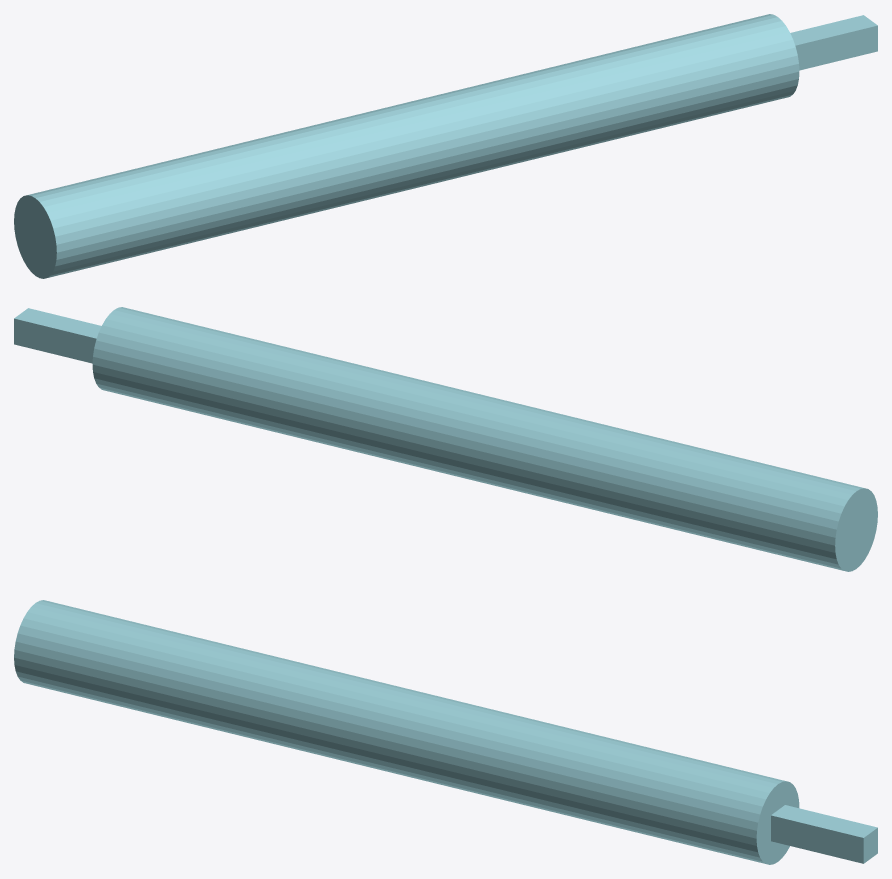
The model's file is thin_marker.obj.
The picture shows the model from 3 angles, top to bottom: view 1: azimuth 30°, elevation 25°; view 2: azimuth 150°, elevation 25°; view 3: azimuth 330°, elevation 25°; orthographic projection.
Bounding box in the file's own units: 0.135 × 0.012 × 0.012.
1 material, 1 textured.
